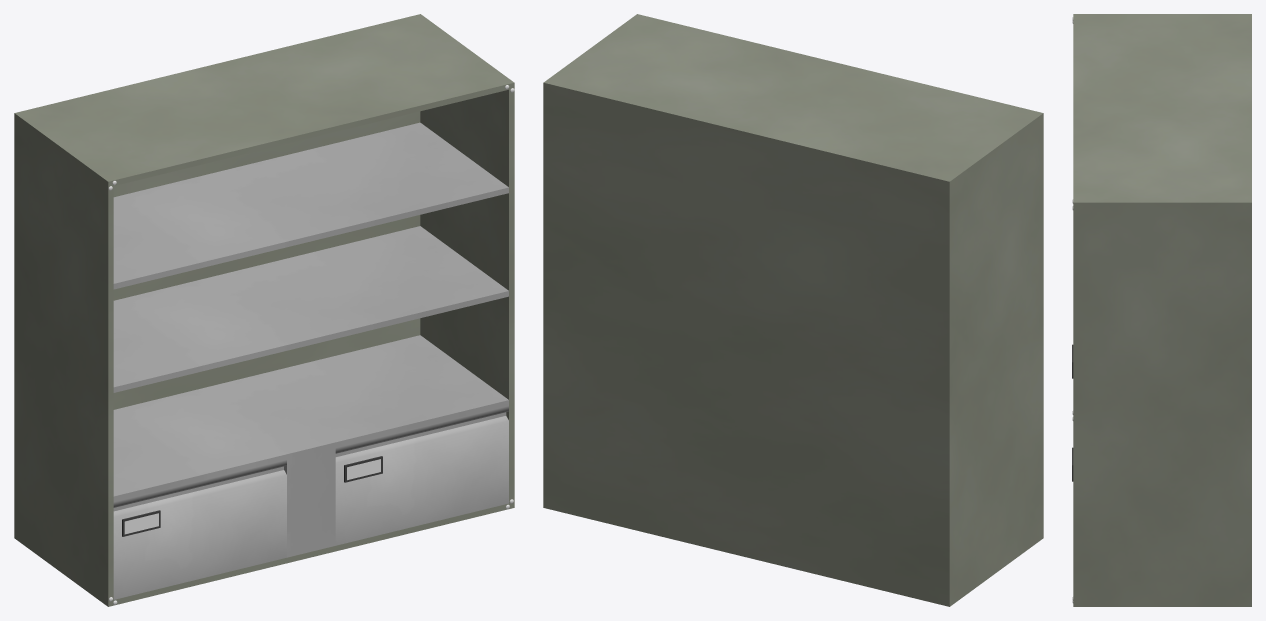
Rendered from 3D004_Office_Library.FBX.
3 renders of one model, left to right at view 1: azimuth 30°, elevation 25°; view 2: azimuth 150°, elevation 25°; view 3: azimuth 270°, elevation 25°, orthographic. The views are drawn at different scales.
Parts seen in each view (by area): view 1: 3D004_Office_Library1, 3D004_Office_LibraryDrawer2, 3D004_Office_LibraryDrawer1; view 2: 3D004_Office_Library1; view 3: 3D004_Office_Library1.
Boxes of the visible parts, <box> form: 3D004_Office_Library1: <box>14,14,514,606</box>; 3D004_Office_LibraryDrawer2: <box>335,406,508,545</box>; 3D004_Office_LibraryDrawer1: <box>113,460,286,599</box>; 3D004_Office_Library1: <box>543,14,1043,606</box>; 3D004_Office_Library1: <box>1072,14,1251,606</box>.
Size of the model in its own units: 150 by 150 by 60.5.
